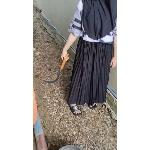Celurit: (41, 51, 71, 85)
